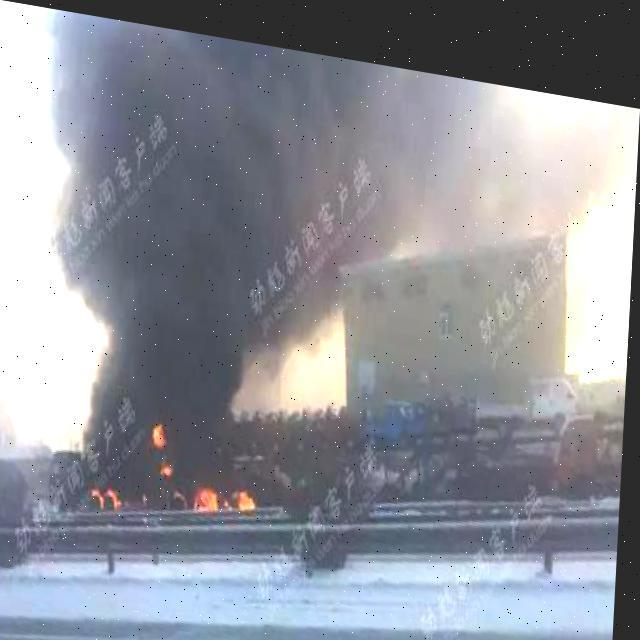Fire: (192, 469, 260, 512), (148, 410, 182, 476), (90, 470, 128, 510)
